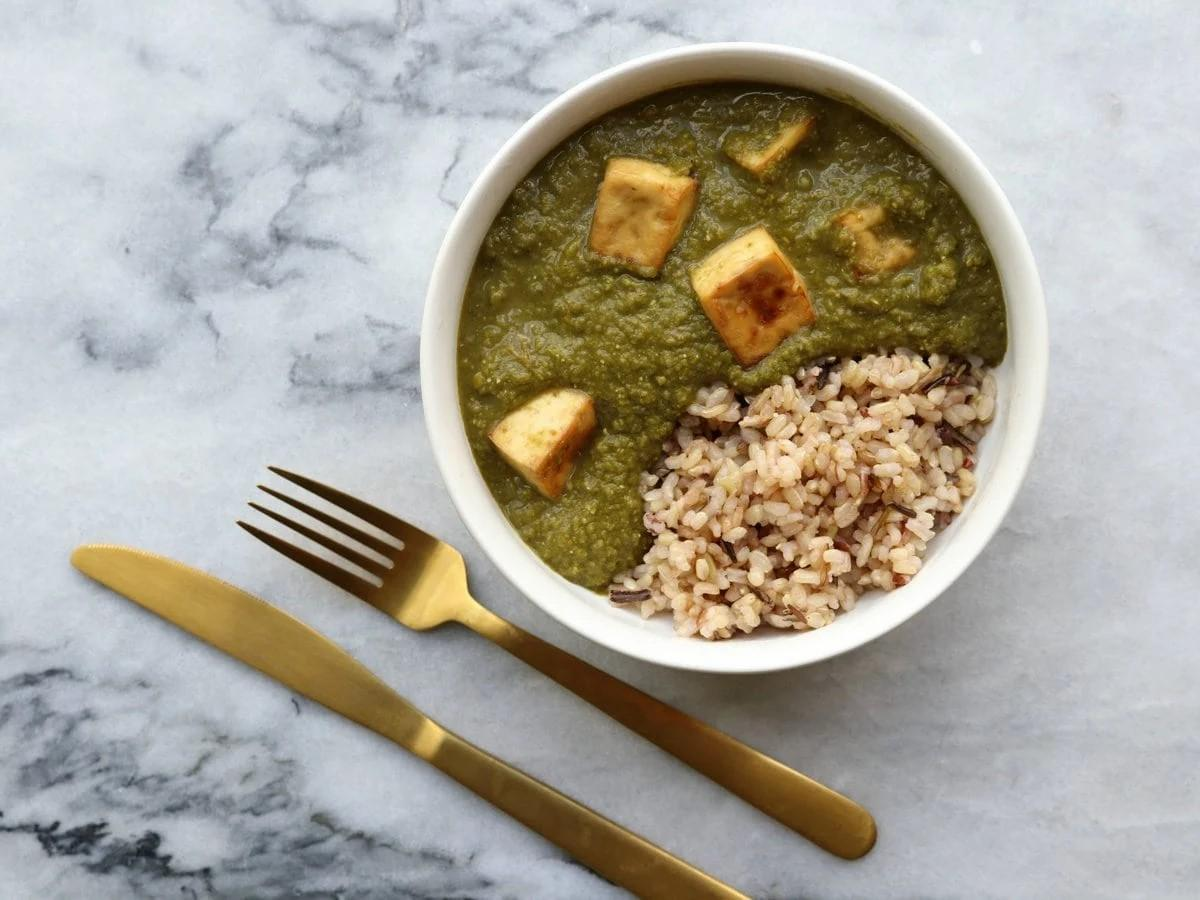PalakPaneer: (453, 74, 1006, 593)
